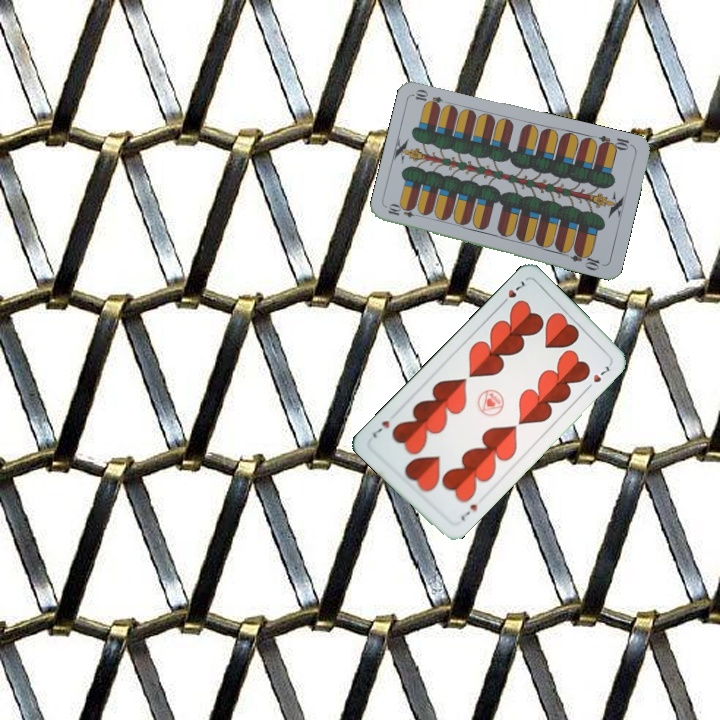E10: (595, 131, 635, 153), (384, 202, 424, 220)
H7: (497, 276, 528, 308), (457, 500, 480, 524)
